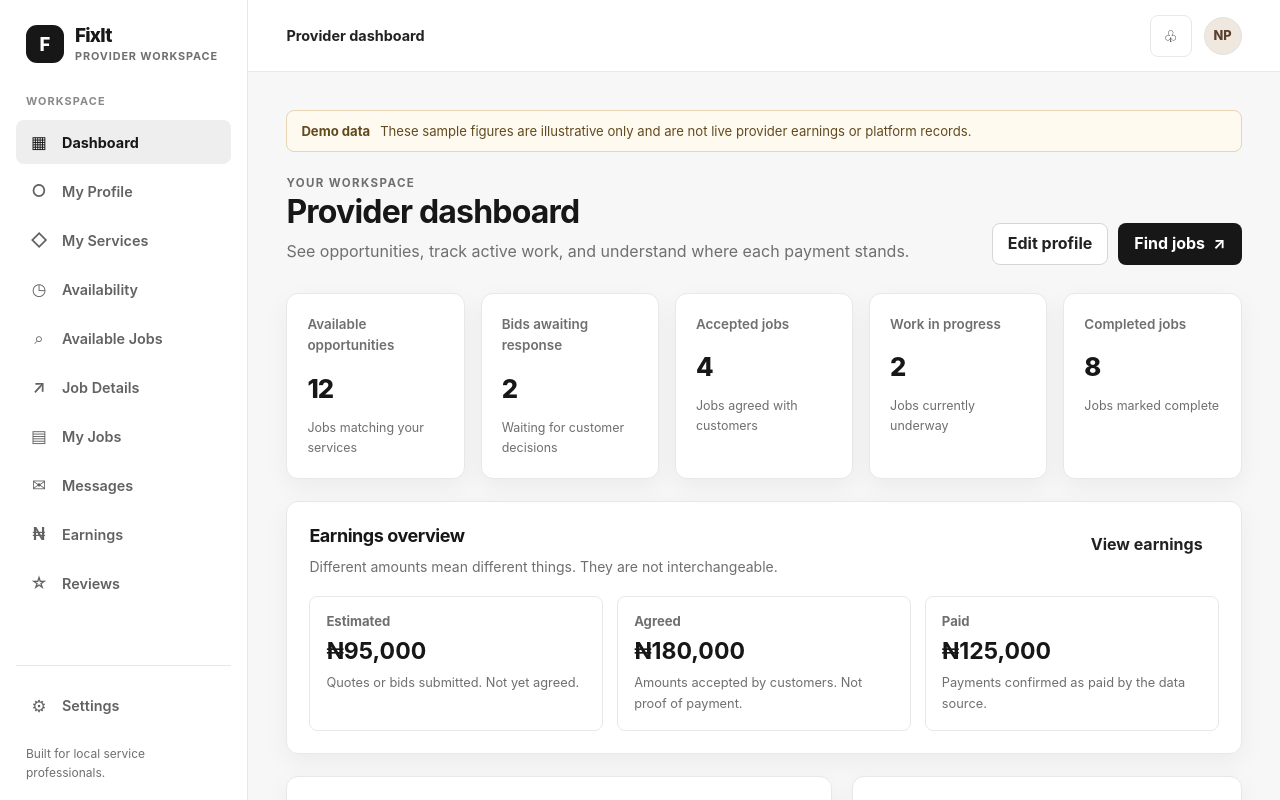
provider workspace navigation › opens the My Jobs screen and marks it active
The image size is (1280, 800).
Click the text "My Jobs". click: (92, 436)
box: 62,428 -> 122,445
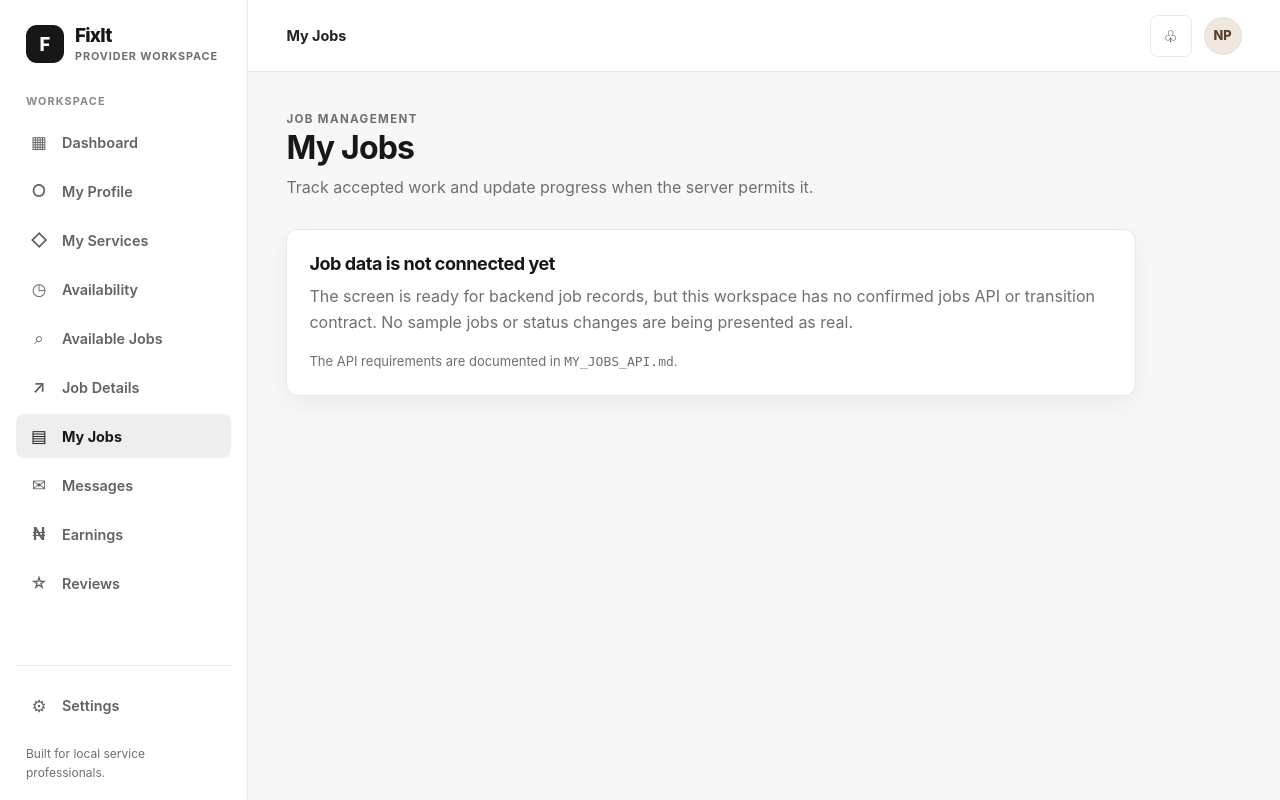
Now the heading "My Jobs" is shown, box 286,128 -> 414,167
